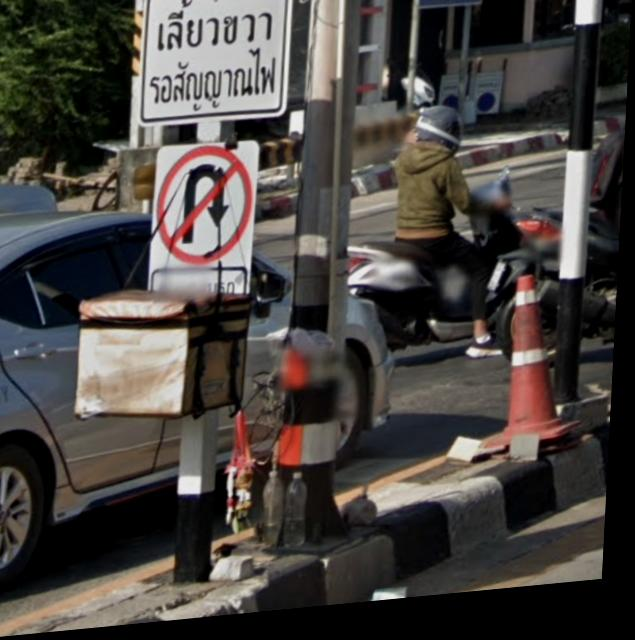not_u_turn_right: (159, 151, 257, 271)
